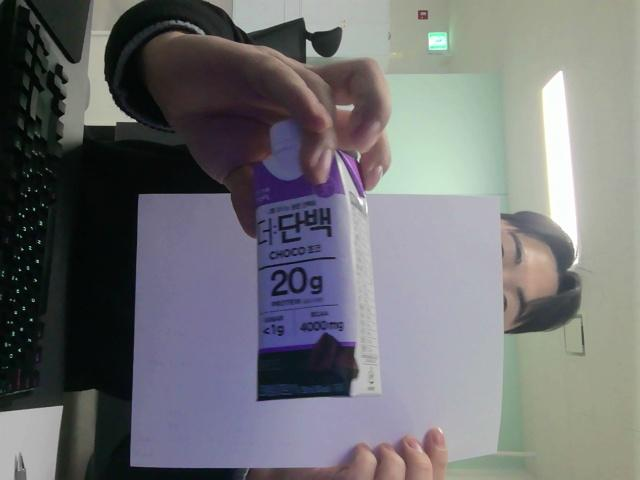milk: (254, 120, 380, 399)
